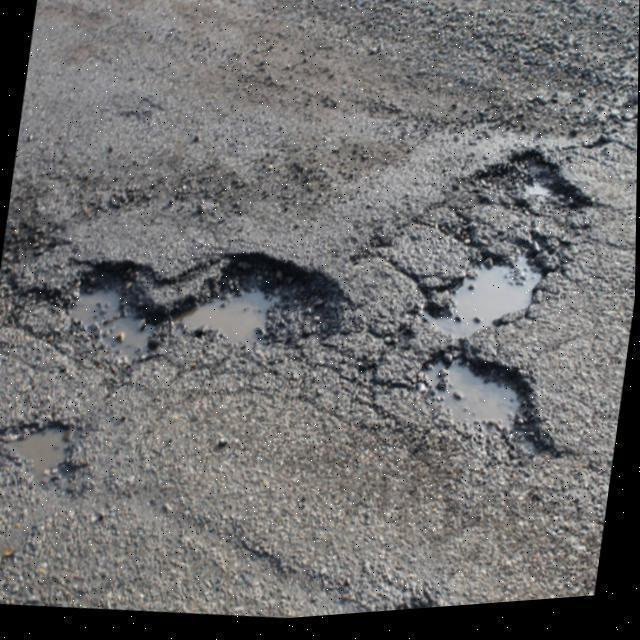Pothole: (53, 243, 365, 392), (404, 247, 562, 477), (484, 156, 592, 230), (10, 407, 85, 497)
